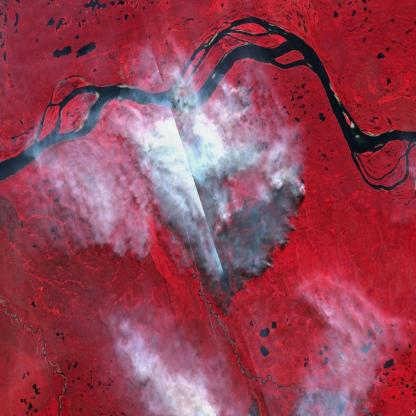fire: (134, 81, 312, 282)
